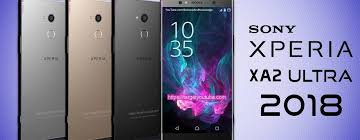sony: (160, 1, 238, 139), (110, 1, 160, 139), (66, 1, 116, 139), (16, 1, 66, 139)
